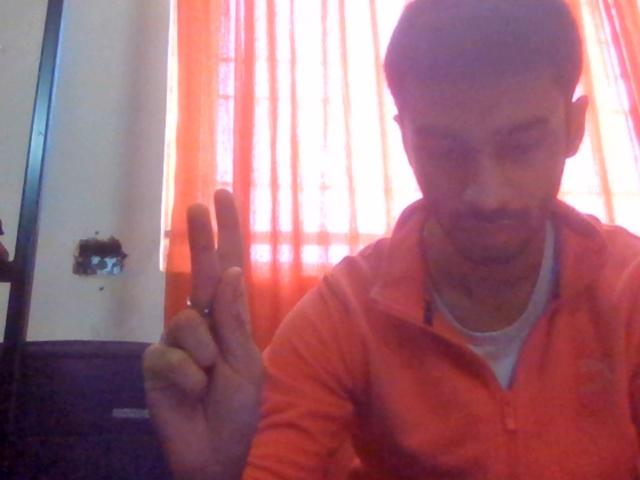K: (101, 184, 330, 480)
